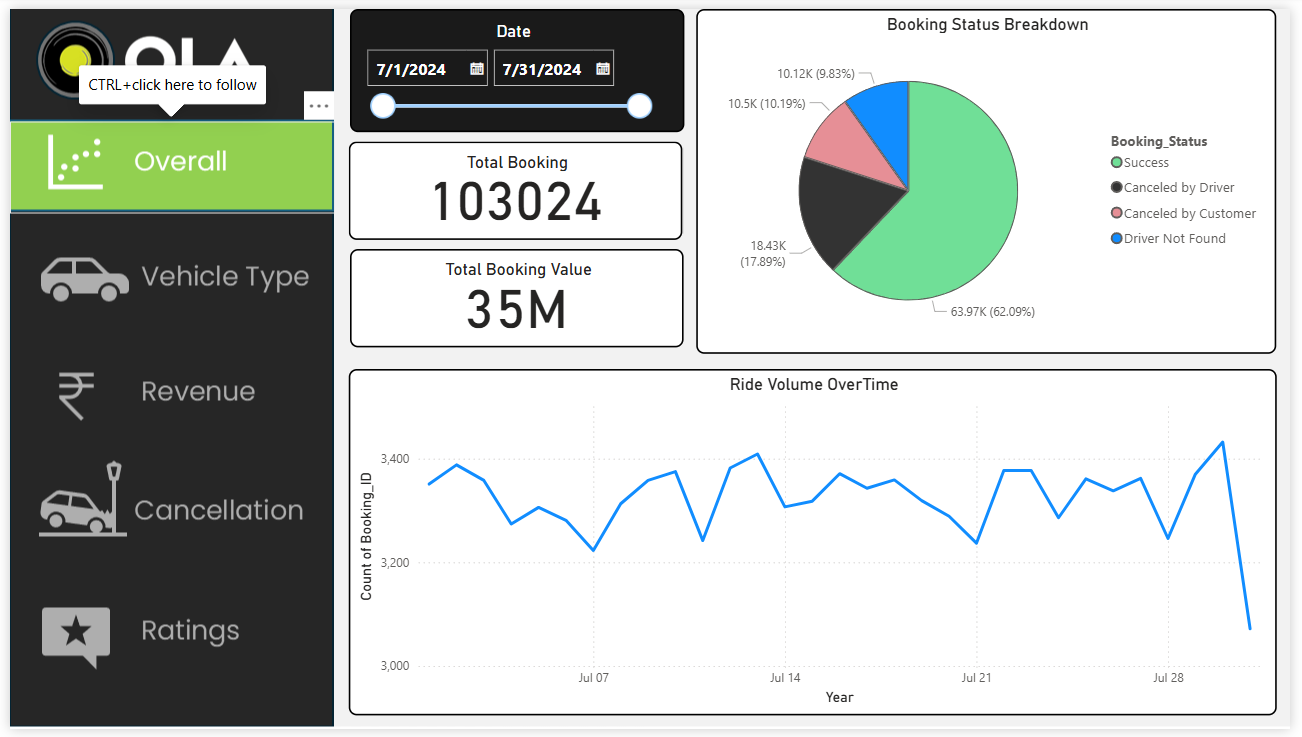

What the dashboard file says about the page in this screenshot:
{"tool":"powerbi","page":{"name":"Overall","canvas":[1280,720],"ordinal":0},"visuals":[{"type":"actionButton","box":[0,217.2,324.5,92.9],"z":0},{"type":"actionButton","box":[0,446.4,324.5,92.9],"z":1000},{"type":"actionButton","box":[1.2,587.5,324.5,92.9],"z":2000},{"type":"actionButton","box":[1.2,339,324.5,92.9],"z":3000},{"type":"actionButton","box":[0,112.2,324.5,92.9],"z":4000},{"type":"lineChart","title":" Ride Volume OverTime","fields":{"Y":["CountNonNull(Bookings-100000-Rows - July.Booking_ID)"],"Category":["Bookings-100000-Rows - July.Date.Variation.Date Hierarchy.Year","Bookings-100000-Rows - July.Date.Variation.Date Hierarchy.Quarter","Bookings-100000-Rows - July.Date.Variation.Date Hierarchy.Month","Bookings-100000-Rows - July.Date.Variation.Date Hierarchy.Day"]},"box":[339,359.5,927.8,346.2],"z":5000},{"type":"pieChart","title":"Booking Status Breakdown","fields":{"Category":["Bookings-100000-Rows - July.Booking_Status"],"Y":["CountNonNull(Bookings-100000-Rows - July.Booking_Status)"]},"box":[686.2,0,580,345],"z":6000},{"type":"slicer","title":"Date ","fields":{"Values":["Bookings-100000-Rows - July.Date"]},"box":[340.2,0,334.2,123.1],"z":7000},{"type":"card","title":"Total Booking","fields":{"Values":["Count(Bookings-100000-Rows - July.Booking_ID)"]},"box":[338.8,132.5,333.8,98.8],"z":8000},{"type":"card","title":"Total Booking Value","fields":{"Values":["Sum(Bookings-100000-Rows - July.Booking_Value)"]},"box":[340,240,333.8,98.8],"z":9000}]}

Visuals, with their boxes in screenshot pixels (x1, y1, x2, y2), scaled from the page's 1280x720 canvas onto the 1302x737 screenshot:
actionButton: [0,222,330,317]
actionButton: [0,457,330,552]
actionButton: [1,601,331,696]
actionButton: [1,347,331,442]
actionButton: [0,115,330,210]
" Ride Volume OverTime" lineChart: [345,368,1289,722]
"Booking Status Breakdown" pieChart: [698,0,1288,353]
"Date " slicer: [346,0,686,126]
"Total Booking" card: [345,136,684,237]
"Total Booking Value" card: [346,246,685,347]
